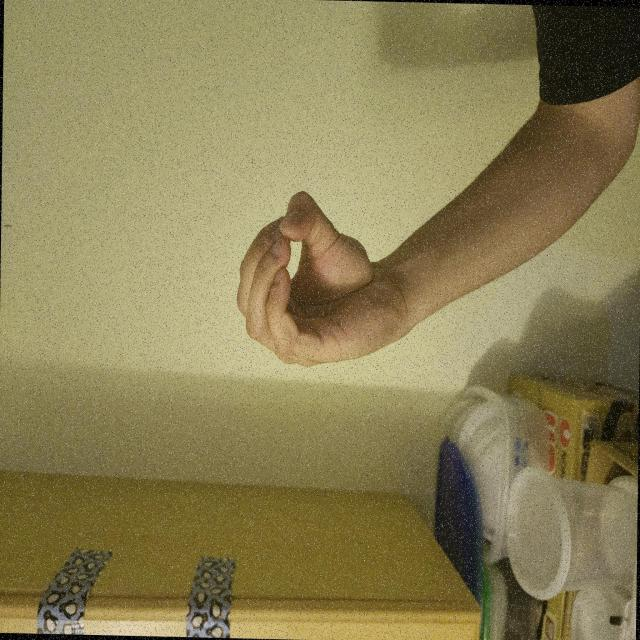O: (196, 306, 344, 556)
